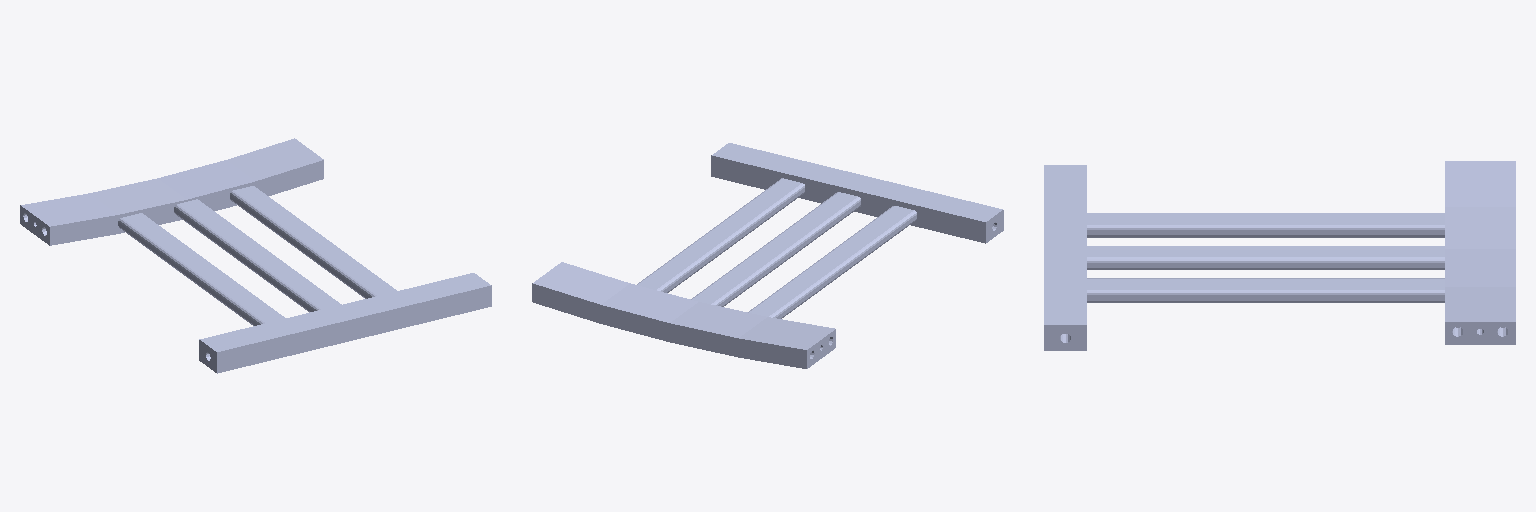
URDF robot description (part4.SLDPRT):
<?xml version="1.0" encoding="utf-8"?>
<!-- This URDF was automatically created by SolidWorks to URDF Exporter! Originally created by [author] ([email redacted]) 
     Commit Version: 1.5.1-0-g916b5db  Build Version: 1.5.7152.31018
     For more information, please see http://wiki.ros.org/sw_urdf_exporter -->
<robot
  name="part4.SLDPRT">
  <link
    name="part4.SLDPRT">
    <inertial>
      <origin
        xyz="1.0281E-16 -0.11943 0.0059532"
        rpy="0 0 0" />
      <mass
        value="0.59524" />
      <inertia
        ixx="0.0095724"
        ixy="6.7825E-18"
        ixz="4.1203E-17"
        iyy="0.0027084"
        iyz="-7.4418E-05"
        izz="0.012246" />
    </inertial>
    <visual>
      <origin
        xyz="0 0 0"
        rpy="0 0 0" />
      <geometry>
        <mesh
          filename="package://part4.SLDPRT/meshes/part4.SLDPRT.STL" />
      </geometry>
      <material
        name="">
        <color
          rgba="0.79216 0.81961 0.93333 1" />
        <texture
          filename="package://part4.SLDPRT/textures/" />
      </material>
    </visual>
    <collision>
      <origin
        xyz="0 0 0"
        rpy="0 0 0" />
      <geometry>
        <mesh
          filename="package://part4.SLDPRT/meshes/part4.SLDPRT.STL" />
      </geometry>
    </collision>
  </link>
</robot>

--- Facts derived from the render (not from the file) ---
Views: 3 orthographic renders of the robot side by side, from view 1: azimuth 30°, elevation 25°; view 2: azimuth 150°, elevation 25°; view 3: azimuth 270°, elevation 25°.
Model part4.SLDPRT with 1 links and 0 joints (none), rooted at part4.SLDPRT, posed all joints at 0.
Links seen in each view (by area): view 1: part4.SLDPRT; view 2: part4.SLDPRT; view 3: part4.SLDPRT.
Link boxes in pixels (x1,y1,x2,y2): part4.SLDPRT: [20, 138, 491, 373]; part4.SLDPRT: [532, 143, 1003, 368]; part4.SLDPRT: [1044, 161, 1515, 350].
Bounding box of the posed robot: 0.27 × 0.335 × 0.0241 m (x, y, z).
1 mesh visuals loaded from 1 distinct referenced files (1 binary STL).